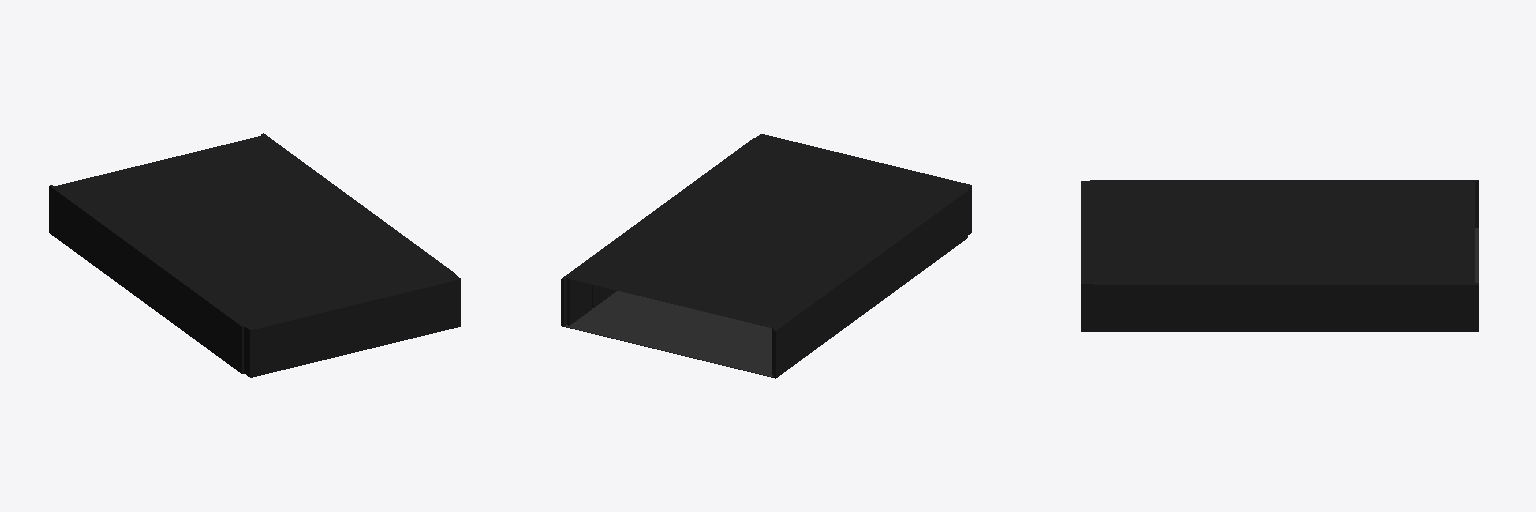
The model's file is setcompleto_achitest_02.obj.
3 renders of one model, left to right at view 1: azimuth 30°, elevation 25°; view 2: azimuth 150°, elevation 25°; view 3: azimuth 270°, elevation 25°, orthographic.
Visible parts, largest first — view 1: Default; view 2: Default; view 3: Default.
Boxes of the visible parts, <box> form: Default: <box>49,133,460,377</box>; Default: <box>561,134,971,378</box>; Default: <box>1081,180,1478,331</box>.
Bounding box in the file's own units: 1834 × 389 × 2942.